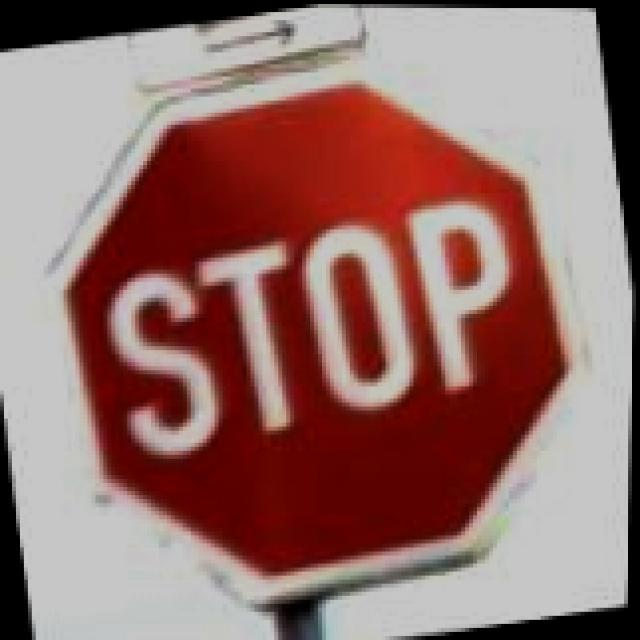stop_sign: (6, 18, 626, 634)
